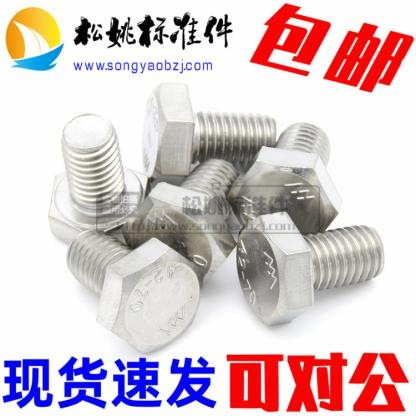FOD: (63, 226, 202, 355), (233, 210, 384, 326), (121, 154, 240, 286), (145, 76, 280, 182), (225, 119, 345, 233), (45, 112, 144, 245)
